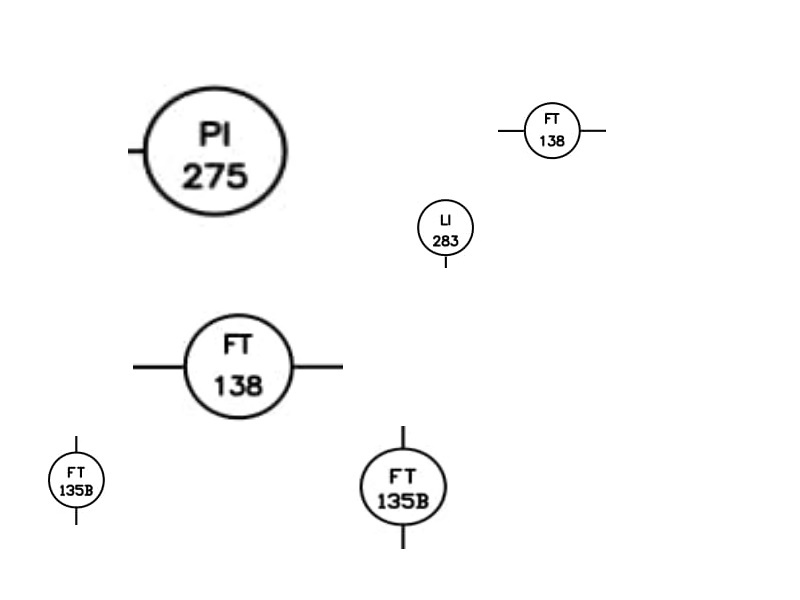Inline Instrument: (140, 80, 291, 219), (179, 309, 296, 421), (355, 445, 448, 529), (44, 451, 107, 512), (414, 197, 477, 258), (521, 100, 584, 161)
